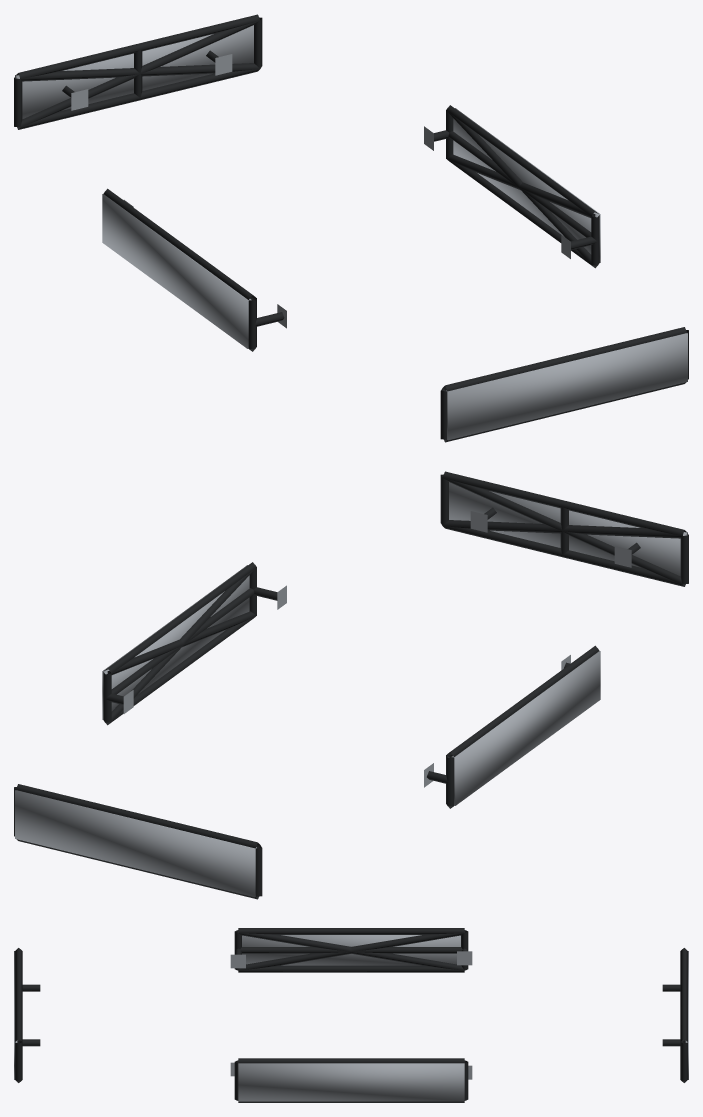
File: ridgeway_penhasco_protecao.glb
3 renders of one model, top to bottom at view 1: azimuth 30°, elevation 25°; view 2: azimuth 150°, elevation 25°; view 3: azimuth 270°, elevation 25°, orthographic. The views are drawn at different scales.
Parts seen in each view (by area): view 1: Protection_front_Level3_Details, Protection_left_Level3_Details, Protection_rear_Level1_Details, Protection_rear_Level3_Details, Protection_rear_Level2_Details, Protection_right_Level1_Details, Protection_right_Level2_Details, Protection_right_Level3_Details, Protection_front_Level1_Details, Protection_left_Level1_Details; view 2: Protection_rear_Level3_Details, Protection_left_Level3_Details, Protection_front_Level1_Details, Protection_front_Level3_Details, Protection_front_Level2_Details, Protection_right_Level1_Details, Protection_right_Level2_Details, Protection_right_Level3_Details, Protection_rear_Level1_Details, Protection_left_Level1_Details; view 3: Protection_right_Level3_Details, Protection_left_Level2_Details, Protection_left_Level1_Details, Protection_left_Level3_Details, Protection_right_Level1_Details, Protection_rear_Level1_Details, Protection_front_Level1_Details.
Boxes of the visible parts, bbox=[...] form: Protection_front_Level3_Details: bbox=[446, 333, 687, 440]; Protection_left_Level3_Details: bbox=[102, 194, 251, 348]; Protection_rear_Level1_Details: bbox=[14, 14, 262, 129]; Protection_rear_Level3_Details: bbox=[15, 25, 253, 119]; Protection_rear_Level2_Details: bbox=[16, 20, 259, 128]; Protection_right_Level1_Details: bbox=[424, 105, 599, 268]; Protection_right_Level2_Details: bbox=[446, 111, 598, 267]; Protection_right_Level3_Details: bbox=[453, 108, 600, 262]; Protection_front_Level1_Details: bbox=[440, 327, 688, 442]; Protection_left_Level1_Details: bbox=[103, 188, 286, 351]; Protection_rear_Level3_Details: bbox=[15, 790, 256, 897]; Protection_left_Level3_Details: bbox=[451, 651, 600, 805]; Protection_front_Level1_Details: bbox=[440, 471, 688, 586]; Protection_front_Level3_Details: bbox=[449, 482, 687, 576]; Protection_front_Level2_Details: bbox=[443, 477, 686, 585]; Protection_right_Level1_Details: bbox=[103, 562, 286, 725]; Protection_right_Level2_Details: bbox=[104, 568, 256, 724]; Protection_right_Level3_Details: bbox=[102, 565, 249, 719]; Protection_rear_Level1_Details: bbox=[14, 784, 262, 899]; Protection_left_Level1_Details: bbox=[424, 645, 599, 808]; Protection_right_Level3_Details: bbox=[238, 1063, 464, 1101]; Protection_left_Level2_Details: bbox=[238, 931, 464, 970]; Protection_left_Level1_Details: bbox=[230, 928, 472, 972]; Protection_left_Level3_Details: bbox=[242, 935, 460, 965]; Protection_right_Level1_Details: bbox=[230, 1058, 472, 1102]; Protection_rear_Level1_Details: bbox=[662, 948, 687, 1082]; Protection_front_Level1_Details: bbox=[15, 948, 40, 1082].
Size of the model in its own units: 2.29 by 0.354 by 4.86.
Materials: 1 (1 with a texture image).
